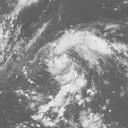cyclone: (47, 29, 97, 81)
